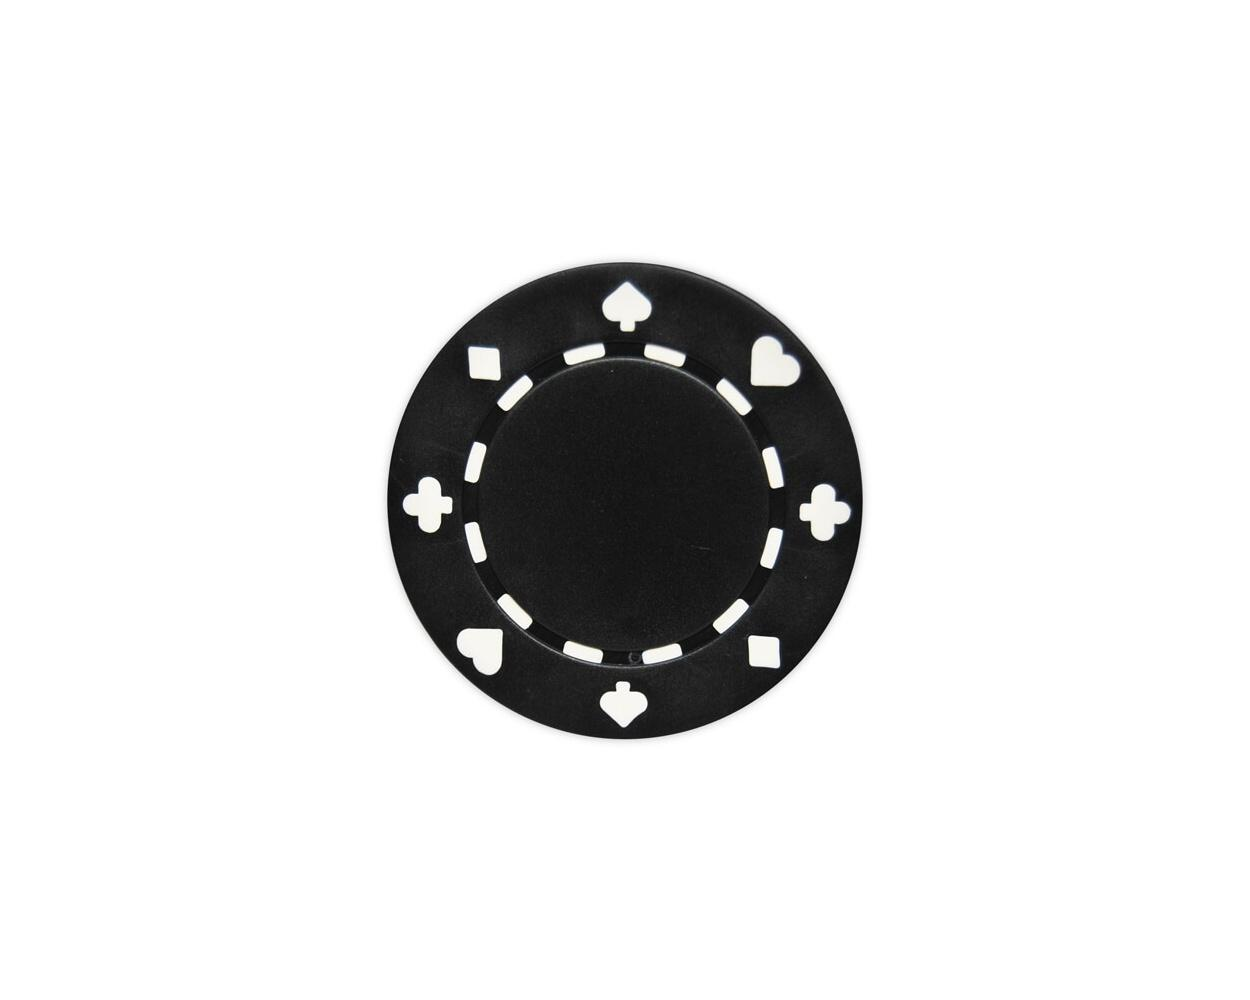chip-black: (388, 263, 862, 738)
